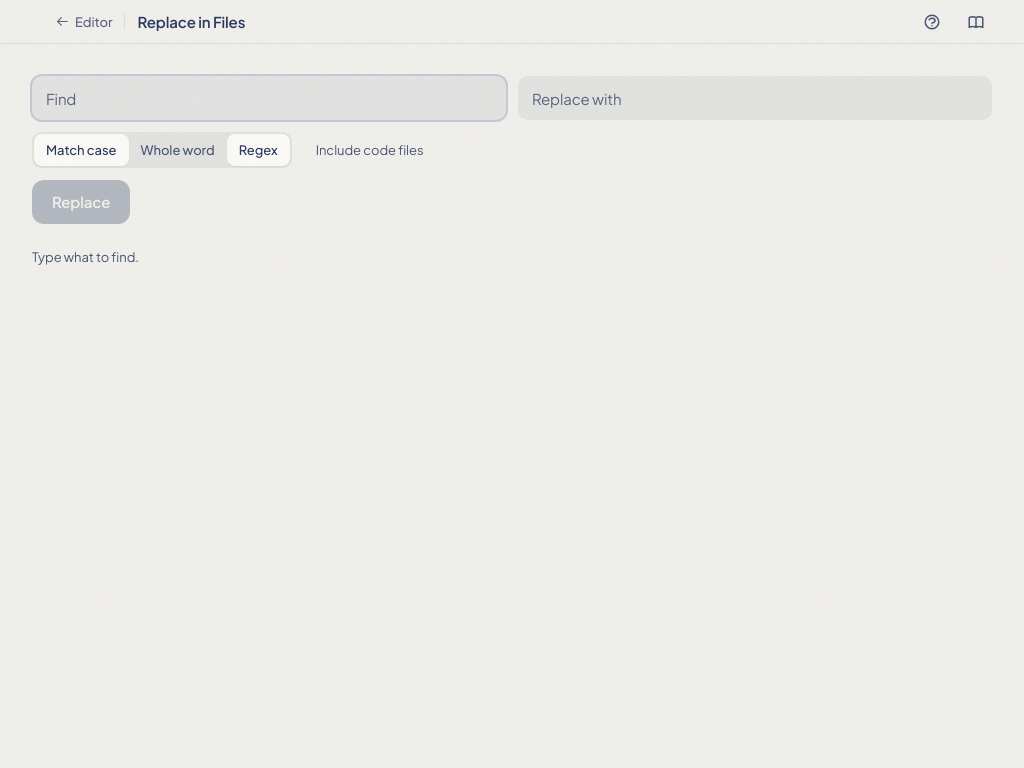
ReplacePage › previews files and matches with the struck text and the replacement
The width and height of the screenshot is (1024, 768).
In the field labelled "Find": (269, 98) [32,76,506,120], type "foo"
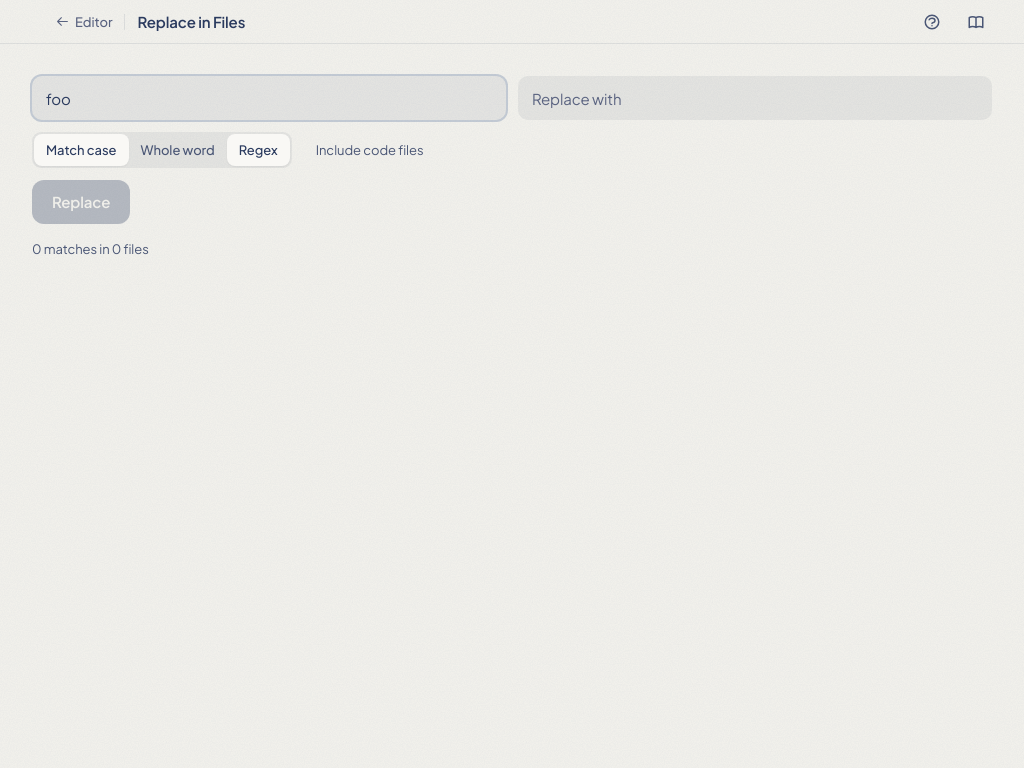
In the field labelled "Replace with": (755, 98) [518,76,992,120], type "bar"
Wait 300 ms
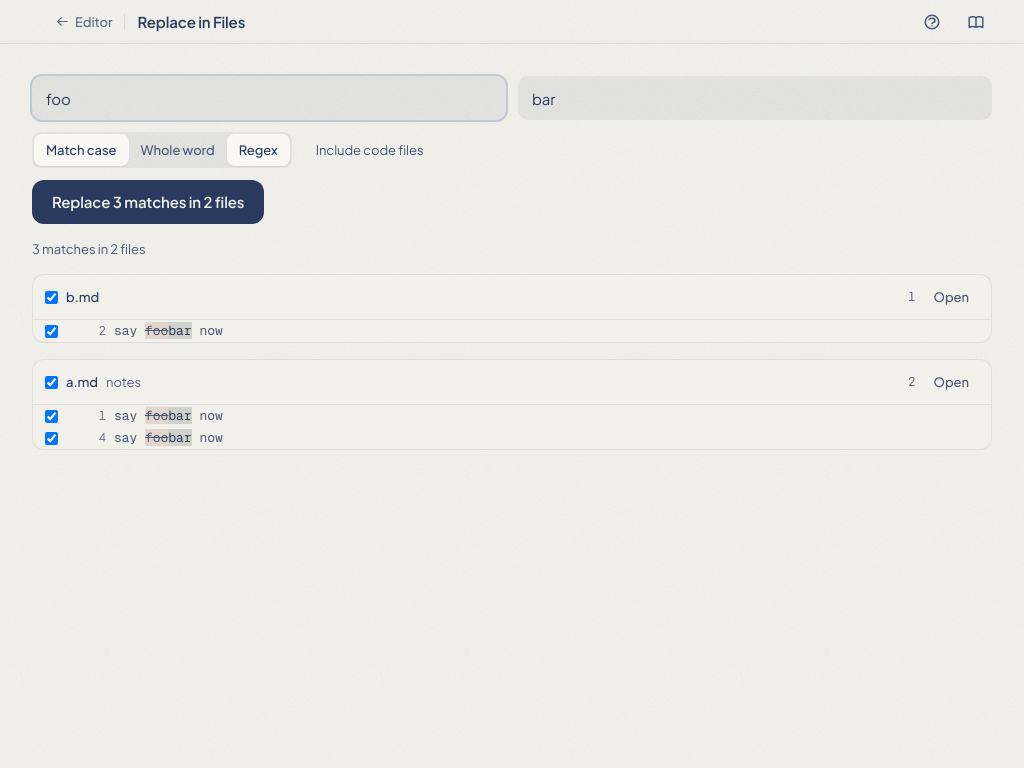
Expected: the text "3 matches in 2 files" is shown, [32,240,146,258]
Expected: the text "foo" is shown 2 times, [145,407,168,424]; [145,429,168,446]
Expected: the text "bar" is shown 2 times, [168,407,192,424]; [168,429,192,446]
